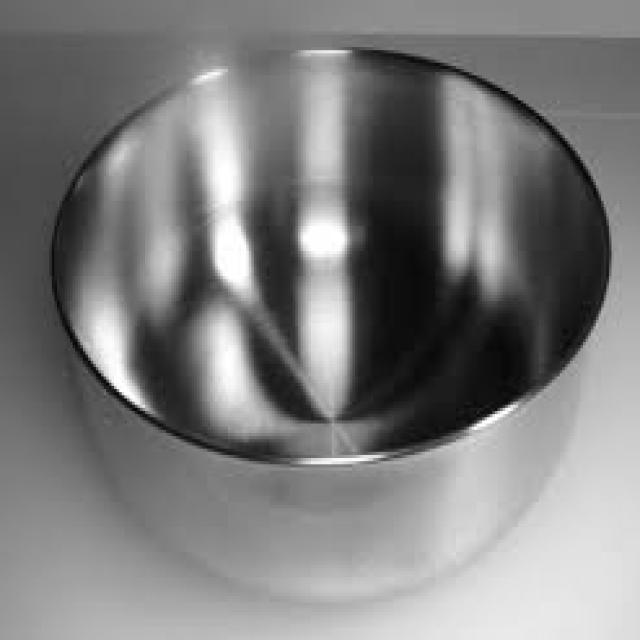Sponge Bowl: (44, 42, 620, 604)
